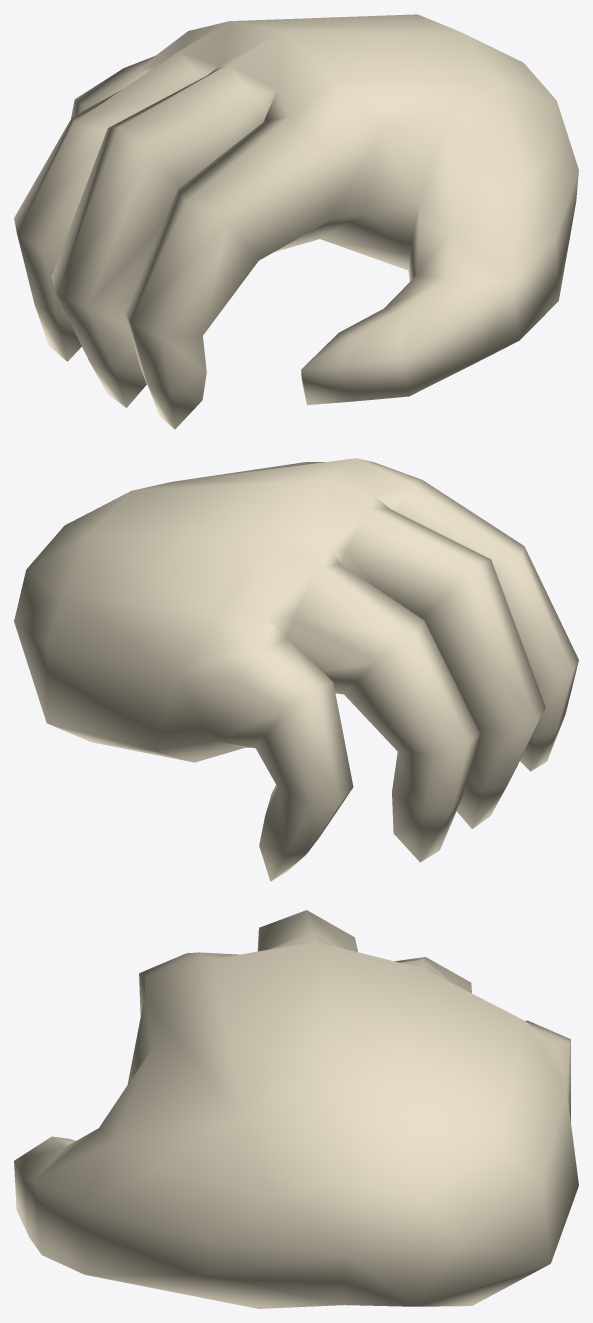
The model's file is F2_UI_3D_Hand_Before_Catch.dae.
The picture shows the model from 3 angles, top to bottom: view 1: azimuth 30°, elevation 25°; view 2: azimuth 150°, elevation 25°; view 3: azimuth 270°, elevation 25°; orthographic projection. The views are drawn at different scales.
Visible parts, largest first — view 1: vsn_mesh_0_; view 2: vsn_mesh_0_; view 3: vsn_mesh_0_.
Boxes of the visible parts, x1,y1,x2,y2 form: vsn_mesh_0_: [14, 14, 578, 429]; vsn_mesh_0_: [14, 458, 578, 881]; vsn_mesh_0_: [14, 910, 578, 1308].
Size of the model in its own units: 1.33 by 0.8478 by 1.22.
Materials: 1 (1 with a texture image).
